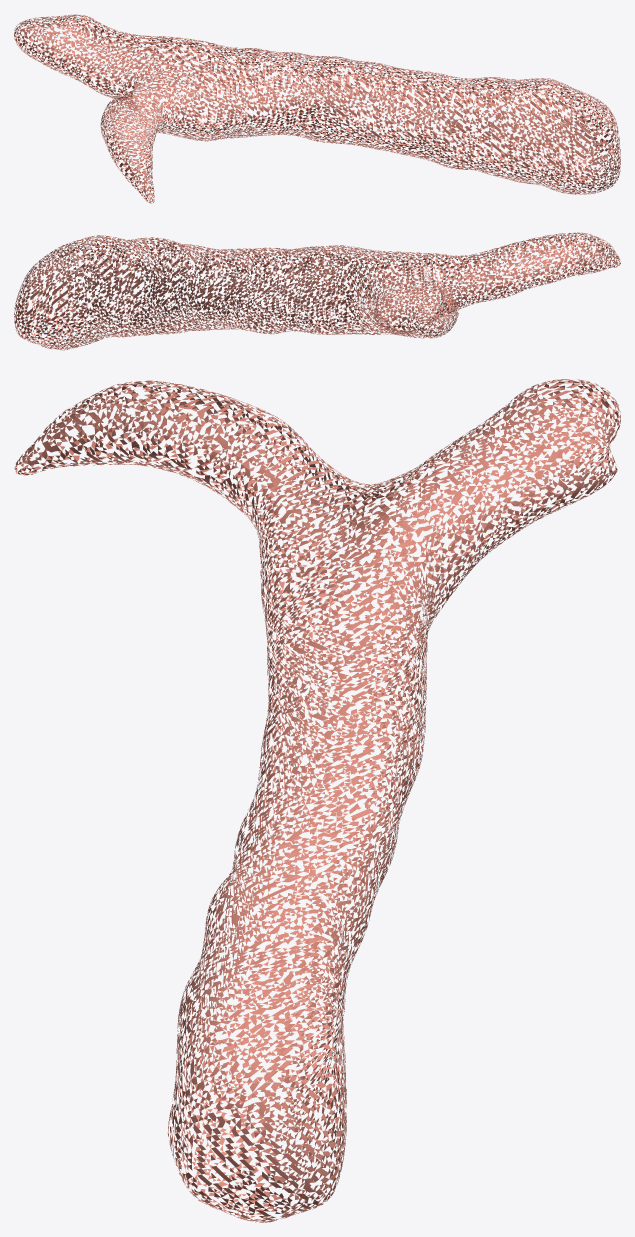
File: morph_002.glb
The picture shows the model from 3 angles, top to bottom: view 1: azimuth 30°, elevation 25°; view 2: azimuth 150°, elevation 25°; view 3: azimuth 270°, elevation 25°; orthographic projection. The views are drawn at different scales.
Bounding box in the file's own units: 128 × 50.54 × 67.11.
